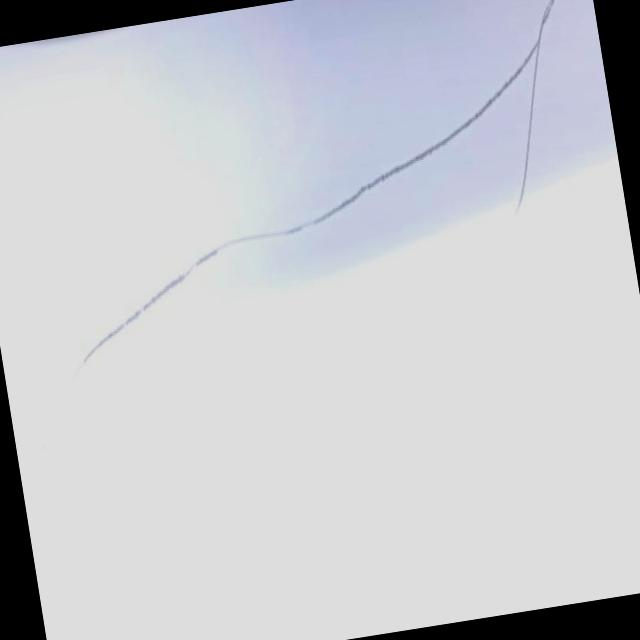crack: (151, 88, 511, 356)
